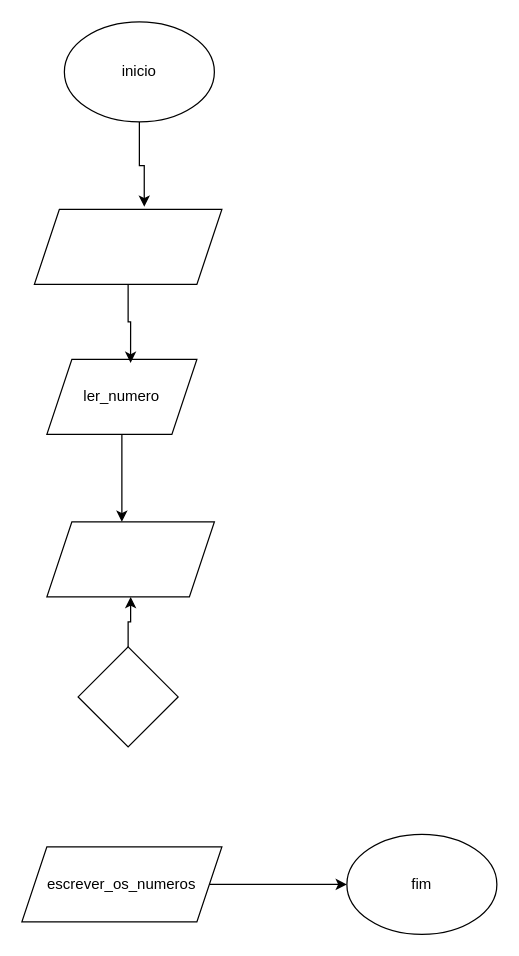
Image size: 519x956. Some labels were removed from this diagram. The shapes that lost their labels are listed below. From the top down, each one's centre as x and y in pixels, then its label:
the point at 127,246: quantos_n_queres somar
the point at 130,559: escrever_numero
